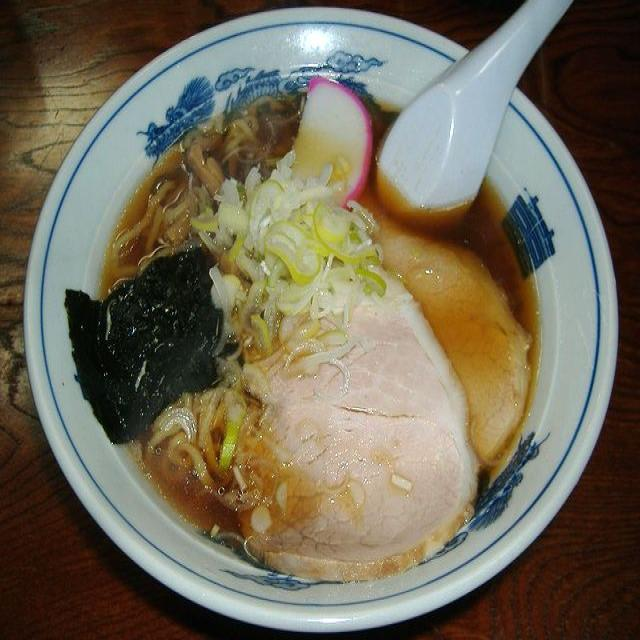面条主食: (24, 0, 620, 629)
